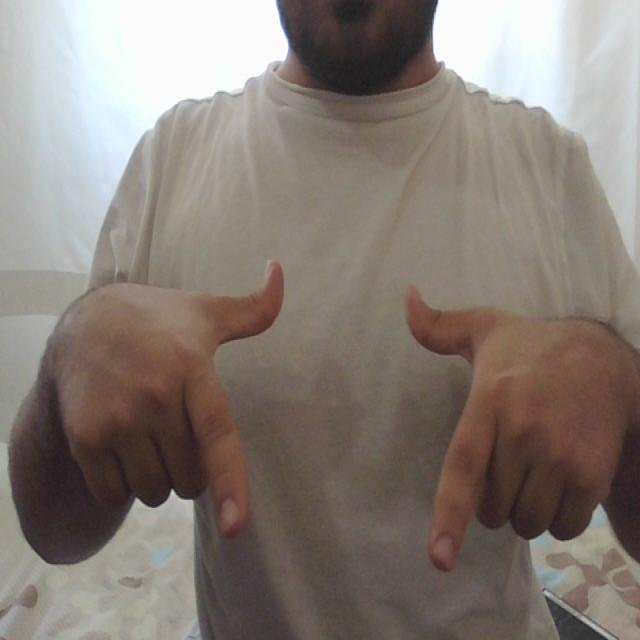Nerede: (190, 255, 517, 576)
